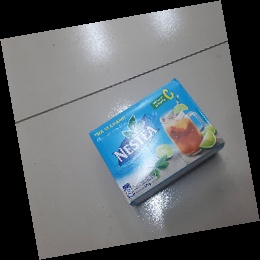Nestea: (87, 77, 225, 208)
